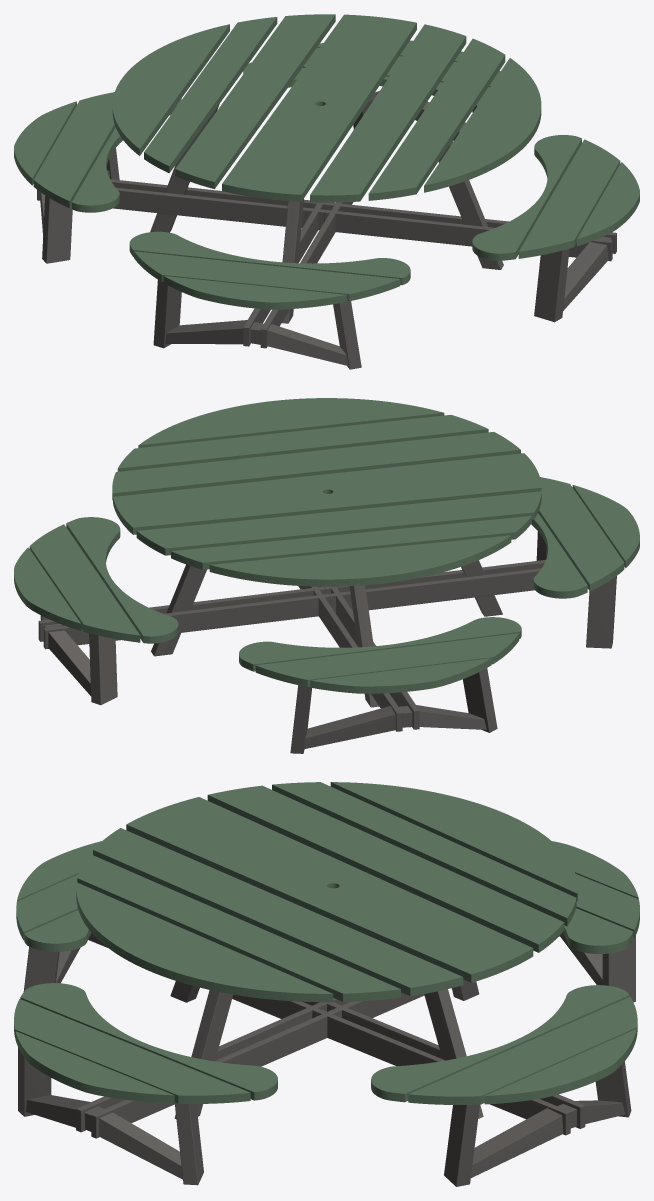
Rendered from Park_bench.fbx.
The picture shows the model from 3 angles, top to bottom: view 1: azimuth 30°, elevation 25°; view 2: azimuth 150°, elevation 25°; view 3: azimuth 270°, elevation 25°; orthographic projection. The views are drawn at different scales.
Parts seen in each view (by area): view 1: pCylinder3; view 2: pCylinder3; view 3: pCylinder3.
Boxes of the visible parts, x1,y1,x2,y2 form: pCylinder3: (14, 14, 639, 369); pCylinder3: (14, 398, 639, 753); pCylinder3: (14, 782, 639, 1186).
Size of the model in its own units: 13.58 by 4.05 by 13.58.
